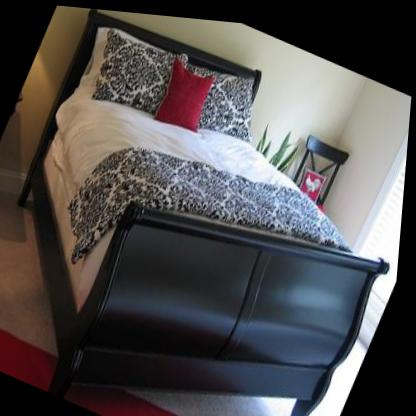Bed: (24, 9, 392, 416)
